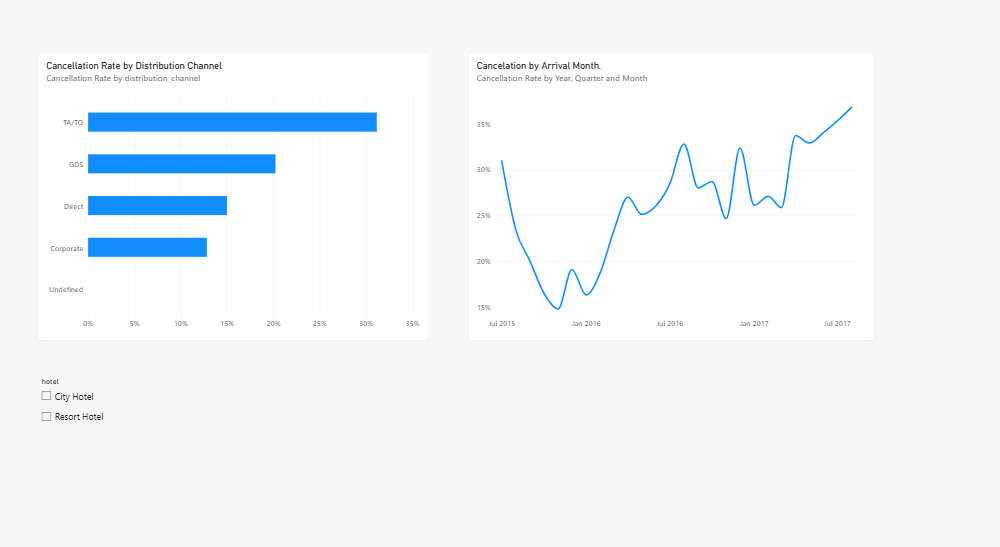

The page's visual inventory and layout, read from the dashboard file:
{"tool":"powerbi","page":{"name":"Cancelation Analysis","canvas":[1920,1080],"ordinal":1},"visuals":[{"type":"clusteredBarChart","title":"Cancellation Rate by Distribution Channel","fields":{"Category":["Booking.distribution_channel"],"Y":["Booking.Cancellation Rate"]},"box":[10,0,476.7,483.3],"z":0},{"type":"lineChart","title":"Cancelation by Arrival Month.","fields":{"Category":["Booking.arrival_date.Variation.Date Hierarchy.Year","Booking.arrival_date.Variation.Date Hierarchy.Quarter","Booking.arrival_date.Variation.Date Hierarchy.Month"],"Y":["Booking.Cancellation Rate"]},"box":[486.7,0,496.7,483.3],"z":1000},{"type":"slicer","fields":{"Values":["Booking.hotel"]},"box":[0,484.7,434,351],"z":1001}]}

Visuals, with their boxes in screenshot pixels (x1, y1, x2, y2), scaled from the page's 1920x1080 canvas onto the 1000x547 screenshot:
"Cancellation Rate by Distribution Channel" clusteredBarChart: box(5, 0, 253, 245)
"Cancelation by Arrival Month." lineChart: box(253, 0, 512, 245)
slicer - Booking.hotel: box(0, 245, 226, 423)
